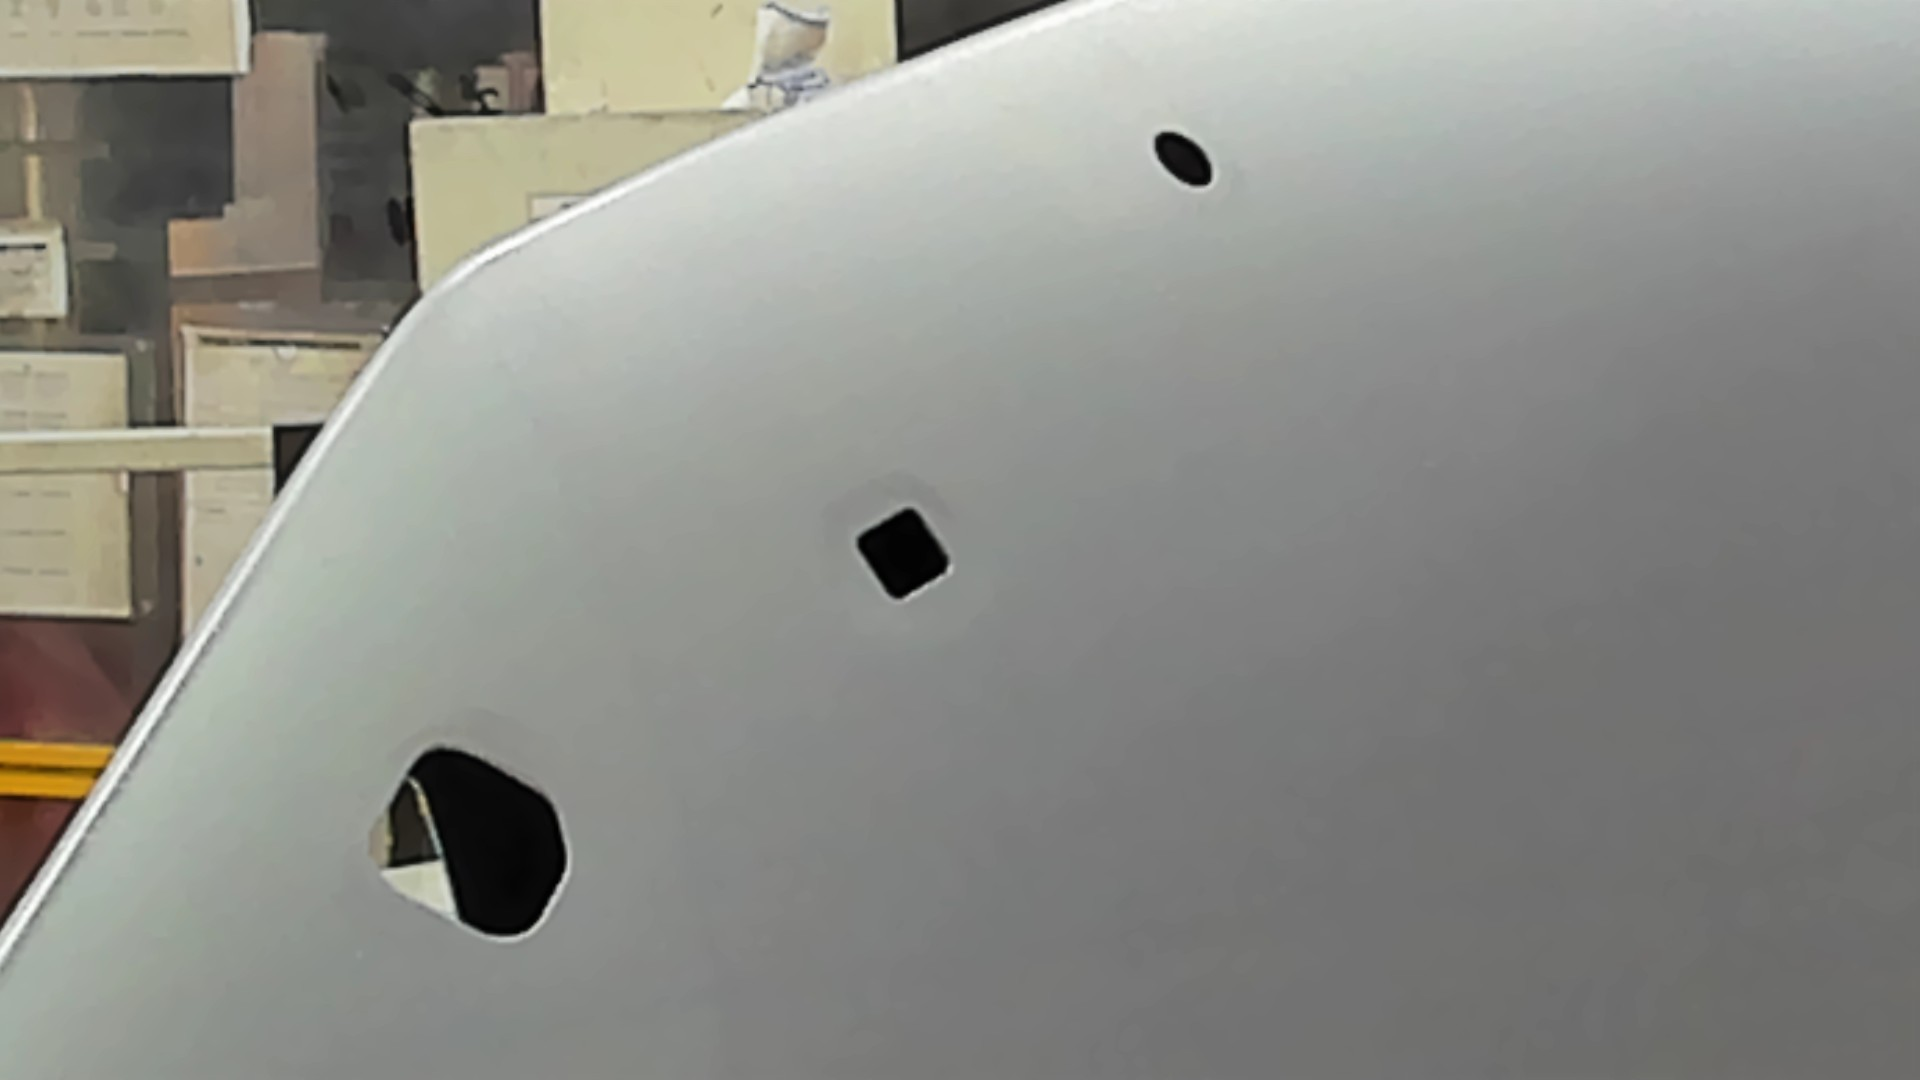chico: (1147, 124, 1220, 194)
grande: (361, 733, 574, 945)
mediano: (847, 497, 961, 613)
